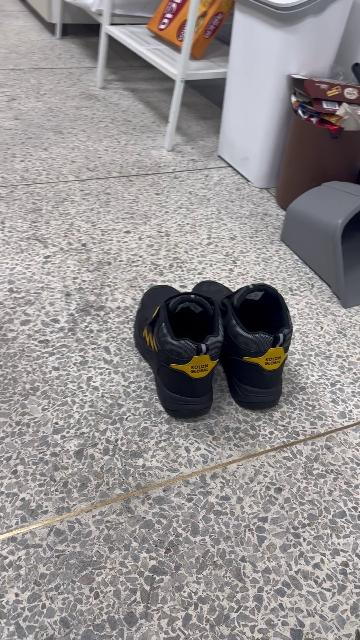shoe_worn: (191, 279, 295, 409), (136, 286, 225, 421)
